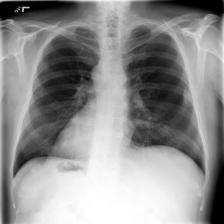normal: (9, 18, 209, 184)
